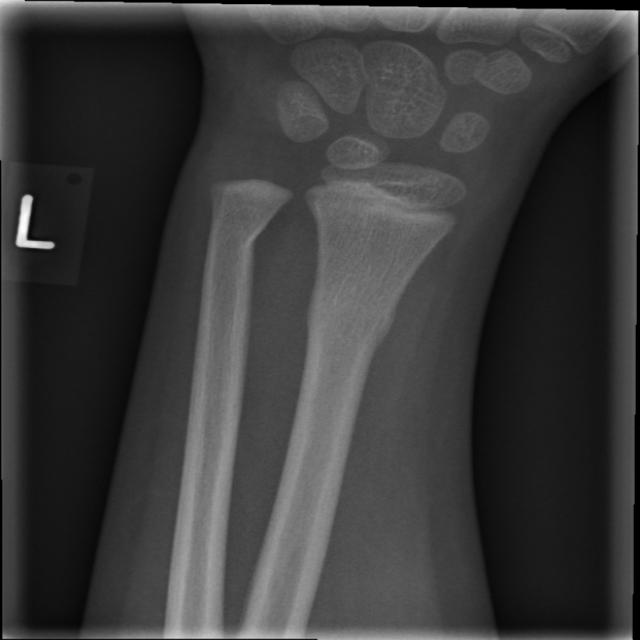radius fracture: (277, 268, 422, 366)
ulna fracture: (197, 188, 288, 272)
